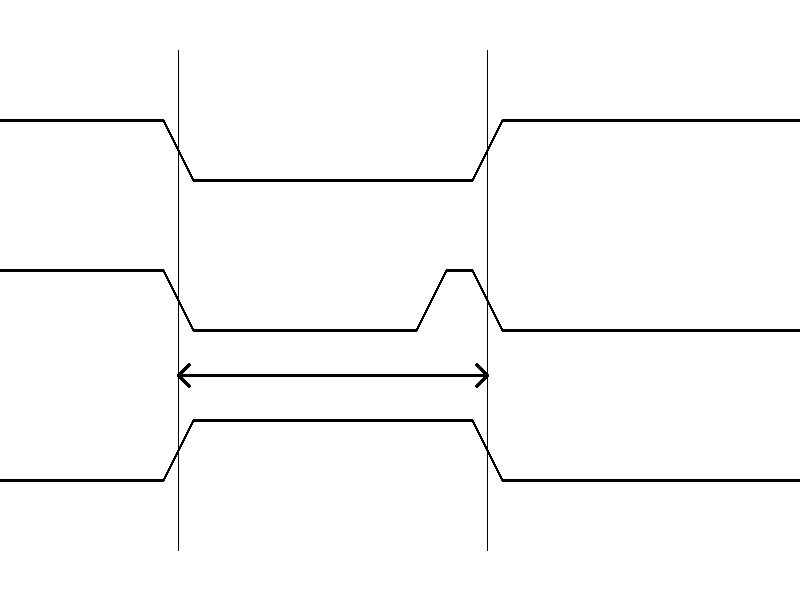double_arrow: (178, 360, 487, 390)
